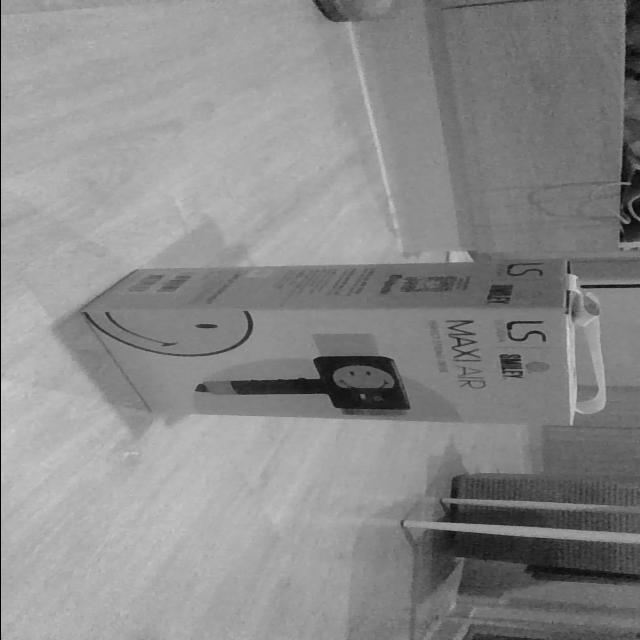Dryer: (77, 256, 607, 428)
